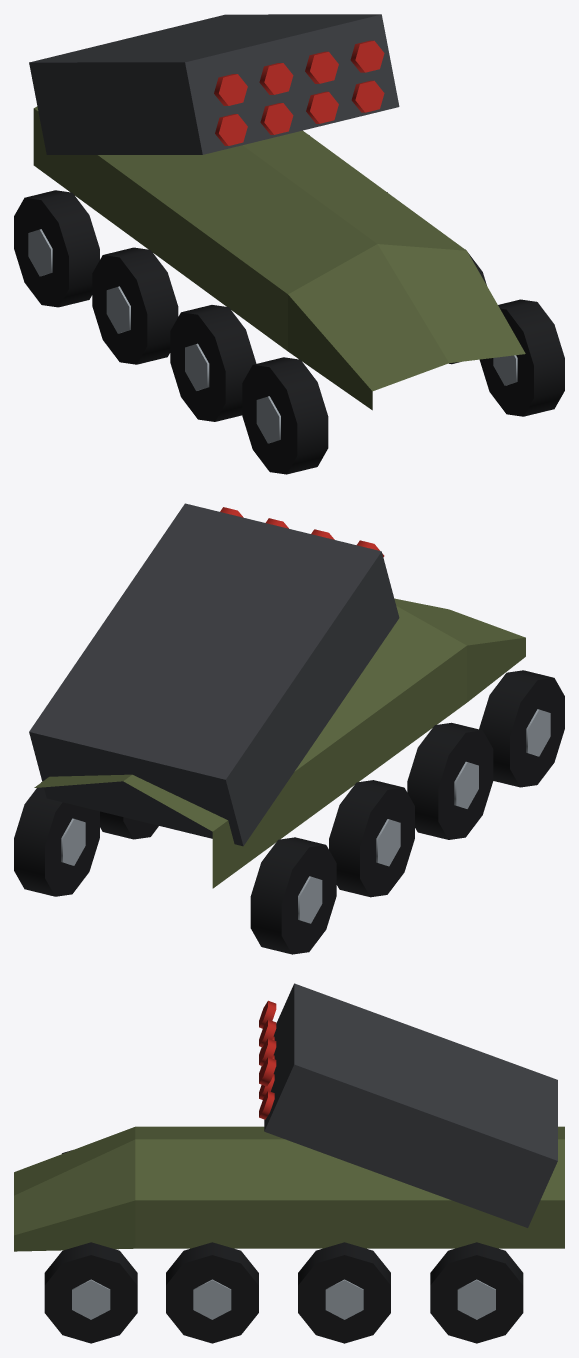
File: veh_ground_rocket_launcher_a06.glb
The picture shows the model from 3 angles, top to bottom: view 1: azimuth 30°, elevation 25°; view 2: azimuth 150°, elevation 25°; view 3: azimuth 270°, elevation 25°; orthographic projection. The views are drawn at different scales.
Parts seen in each view (by area): view 1: body, launcher, wheel_6, wheel_2, wheel_0, wheel_4, wheel_7; view 2: launcher, body, wheel_0, wheel_4, wheel_2, wheel_6, wheel_1, wheel_3; view 3: body, launcher, wheel_1, wheel_7, wheel_3, wheel_5.
Part boxes in pixels (x1,y1,x2,y2): body: [33, 106, 525, 410]; launcher: [29, 14, 399, 154]; wheel_6: [242, 357, 328, 474]; wheel_2: [92, 247, 178, 364]; wheel_0: [14, 190, 99, 307]; wheel_4: [170, 305, 256, 421]; wheel_7: [479, 299, 564, 416]; launcher: [29, 503, 399, 846]; body: [34, 598, 525, 888]; wheel_0: [250, 837, 336, 954]; wheel_4: [407, 722, 493, 839]; wheel_2: [329, 780, 414, 897]; wheel_6: [479, 670, 564, 787]; wheel_1: [14, 782, 99, 896]; wheel_3: [100, 811, 158, 839]; body: [14, 1126, 564, 1251]; launcher: [259, 983, 557, 1227]; wheel_1: [430, 1242, 523, 1343]; wheel_7: [44, 1242, 137, 1343]; wheel_3: [298, 1242, 390, 1343]; wheel_5: [166, 1242, 258, 1343].
Size of what is drawn, in the model's own units: 2.98 by 3.28 by 6.2.
